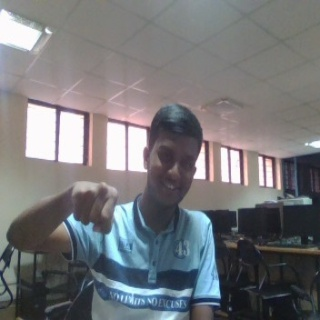Face: (142, 103, 203, 210)
Yes: (67, 174, 120, 236)
